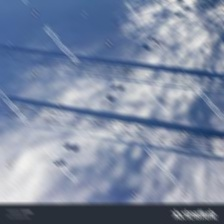rabbit: (52, 141, 82, 169), (105, 84, 126, 106), (140, 35, 162, 52)
